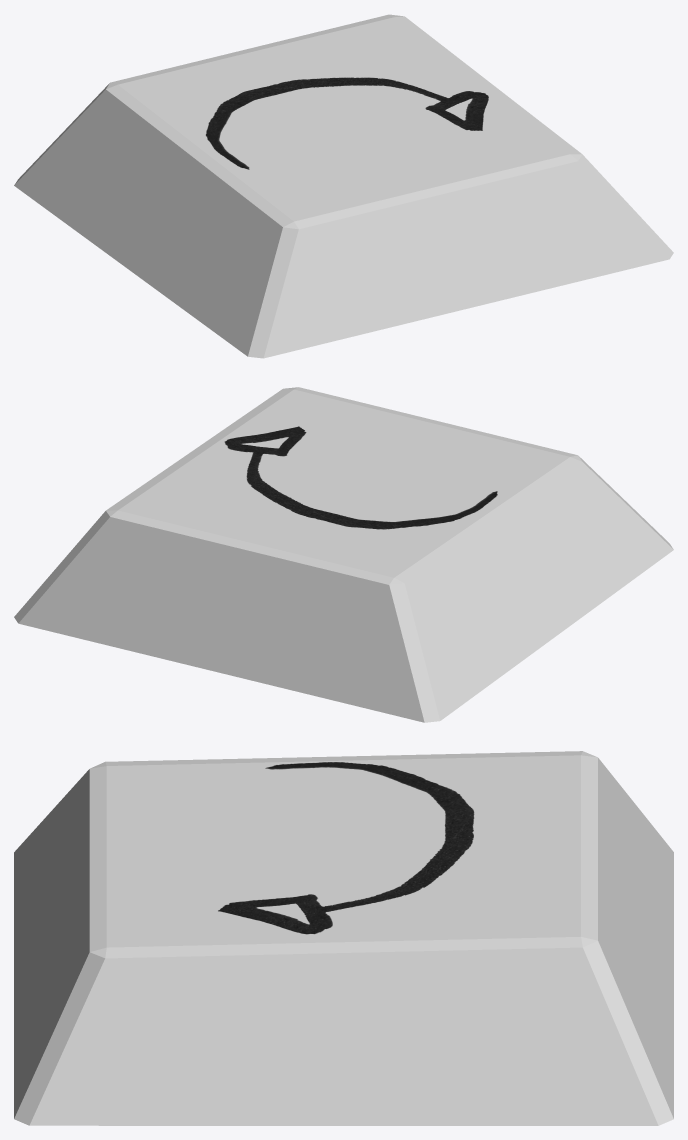
File: key_right.glb
3 renders of one model, top to bottom at view 1: azimuth 30°, elevation 25°; view 2: azimuth 150°, elevation 25°; view 3: azimuth 270°, elevation 25°, orthographic. The views are drawn at different scales.
Visible parts, largest first — view 1: Cube.004, KeyLabel; view 2: Cube.004, KeyLabel; view 3: Cube.004, KeyLabel.
Part boxes in pixels (left/top/right/bottom): Cube.004: left=14, top=14, right=673, bottom=358; KeyLabel: left=205, top=77, right=488, bottom=169; Cube.004: left=14, top=387, right=673, bottom=722; KeyLabel: left=224, top=426, right=497, bottom=529; Cube.004: left=14, top=751, right=673, bottom=1125; KeyLabel: left=218, top=762, right=474, bottom=934.
Size of the model in its own units: 3.9 by 0.9506 by 3.88.
Materials: 1 (1 with a texture image).
